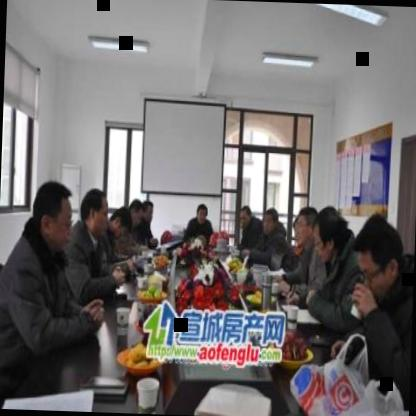head: (348, 214, 408, 312), (29, 178, 78, 255), (311, 205, 346, 267), (80, 185, 110, 240), (294, 203, 322, 254), (108, 202, 131, 248), (260, 204, 281, 241), (126, 197, 144, 227), (236, 204, 254, 234), (194, 201, 211, 227), (141, 197, 156, 226)
